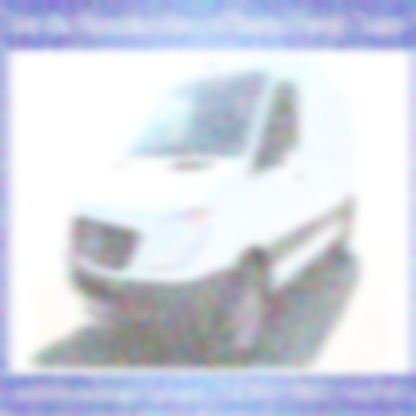Vehicle: (60, 51, 360, 365)
